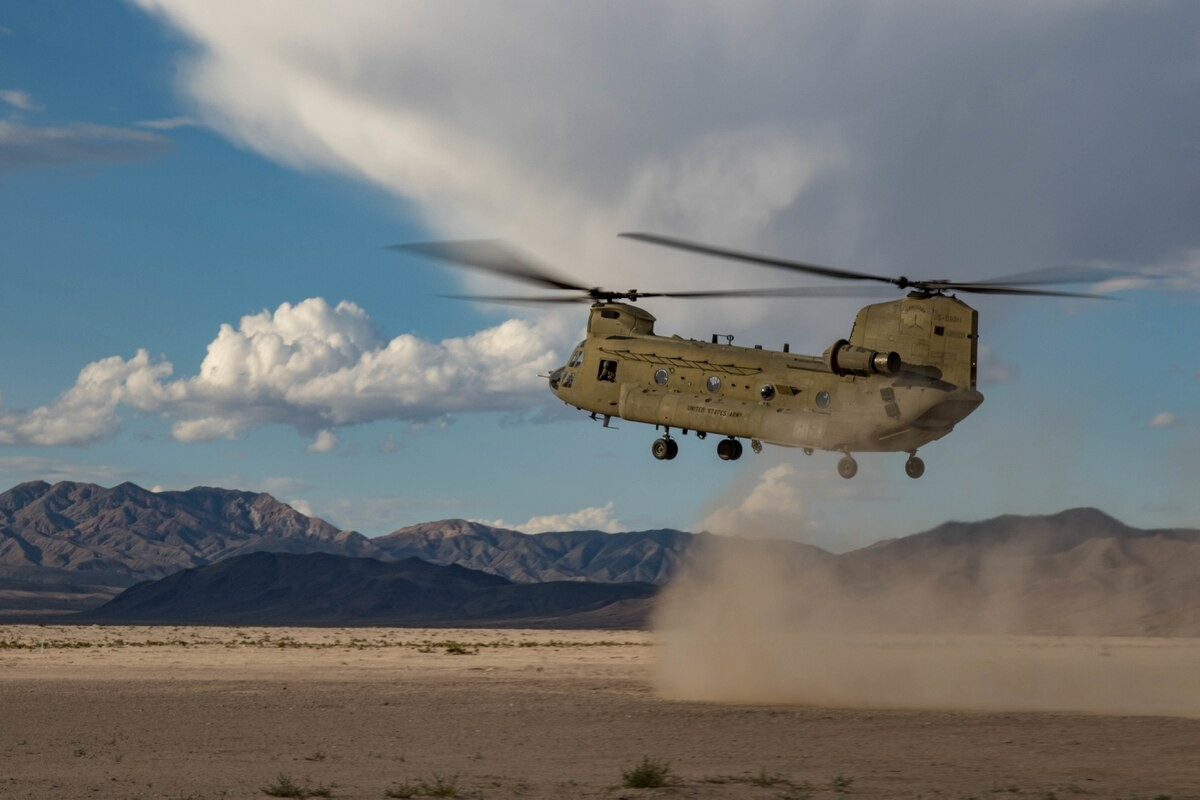chinook: (535, 262, 993, 493)
